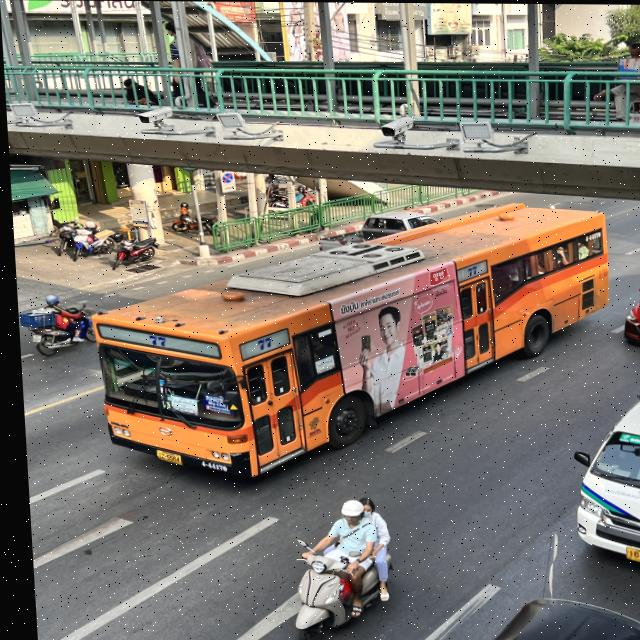BMTA-bus: (80, 194, 618, 483)
Bus-Line-Number: (138, 329, 168, 348), (249, 333, 275, 352)
Destination-Sign-Normal: (197, 396, 225, 414)
